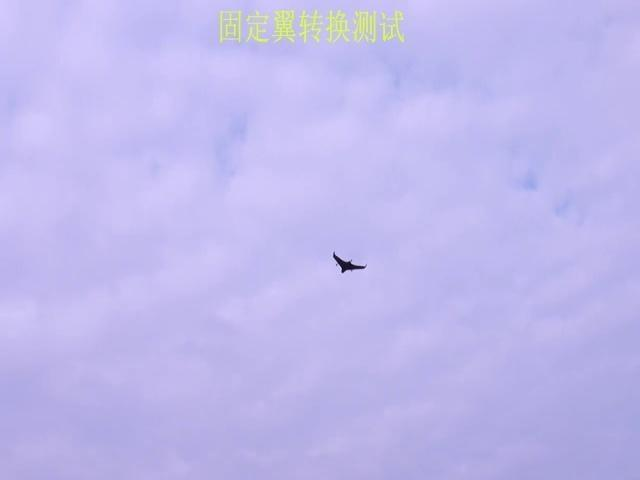Airplane: (332, 251, 367, 273)
